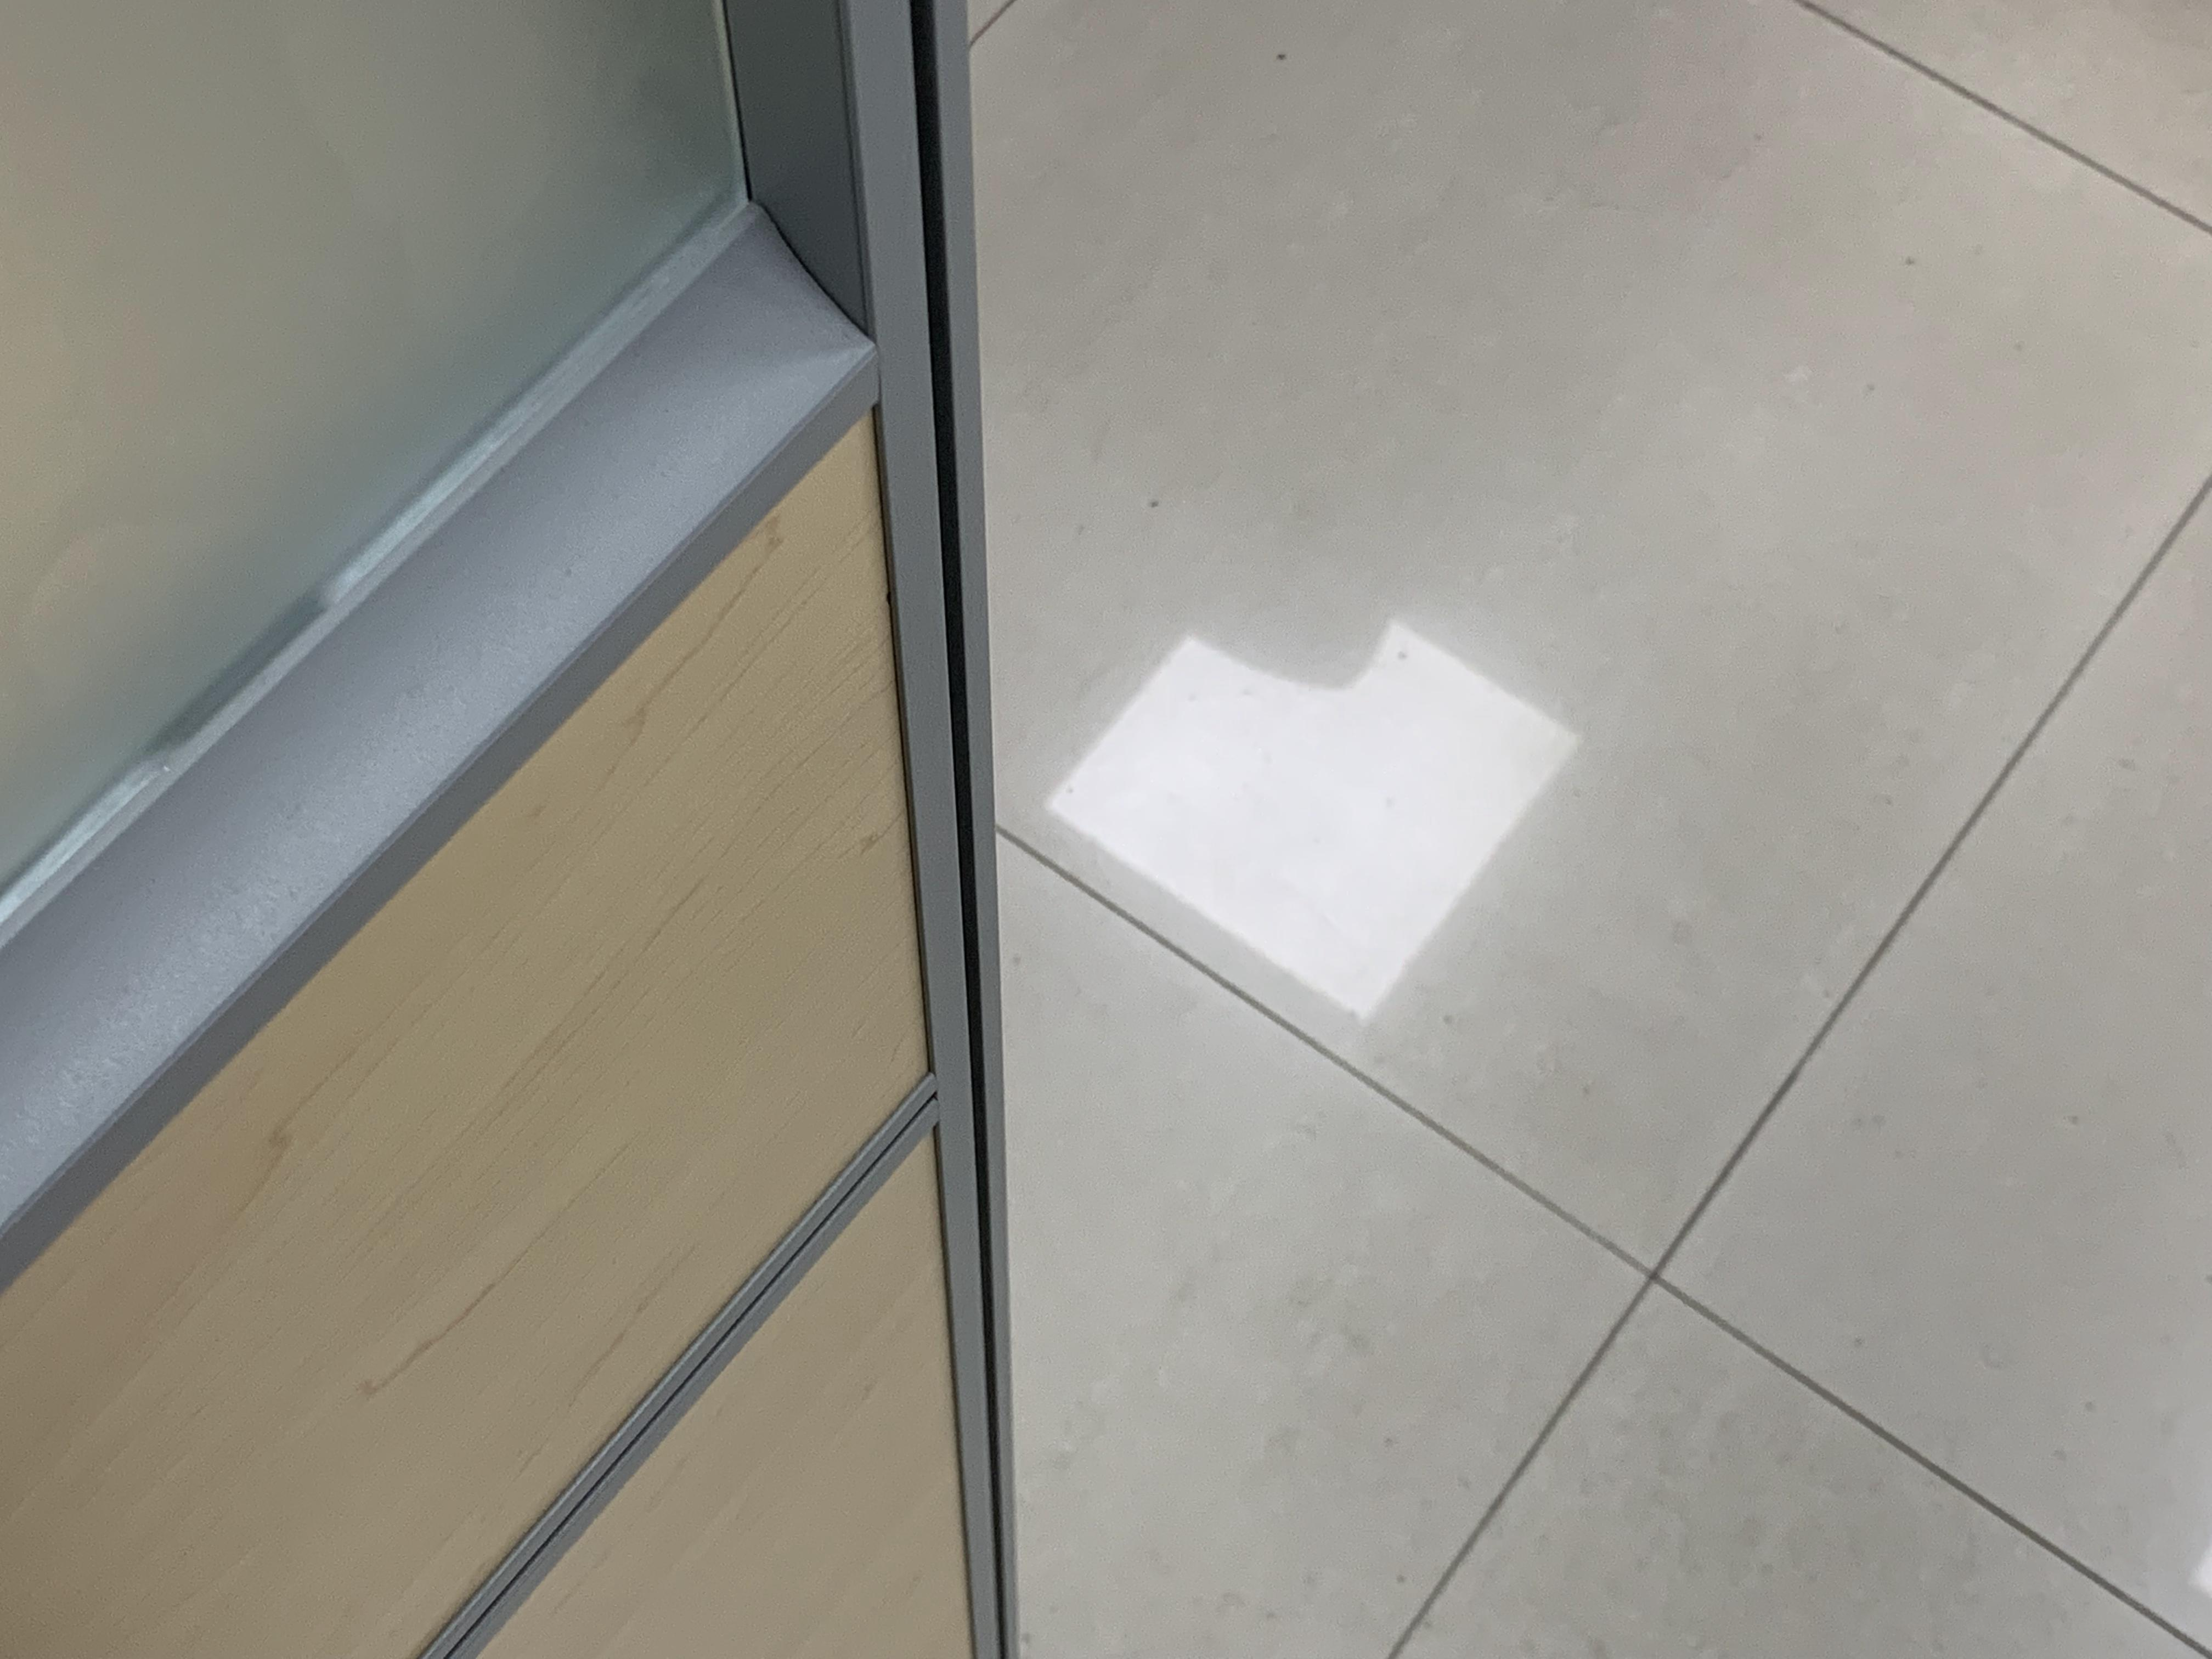reflection: (1040, 613, 1578, 1023)
